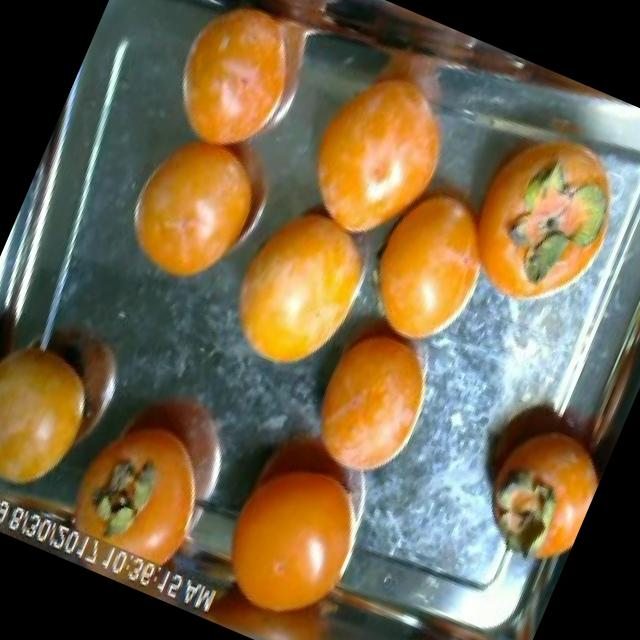Fruit: (266, 10, 498, 274), (193, 158, 397, 404), (98, 91, 304, 318), (272, 283, 474, 513), (142, 0, 343, 182), (0, 307, 128, 523)
